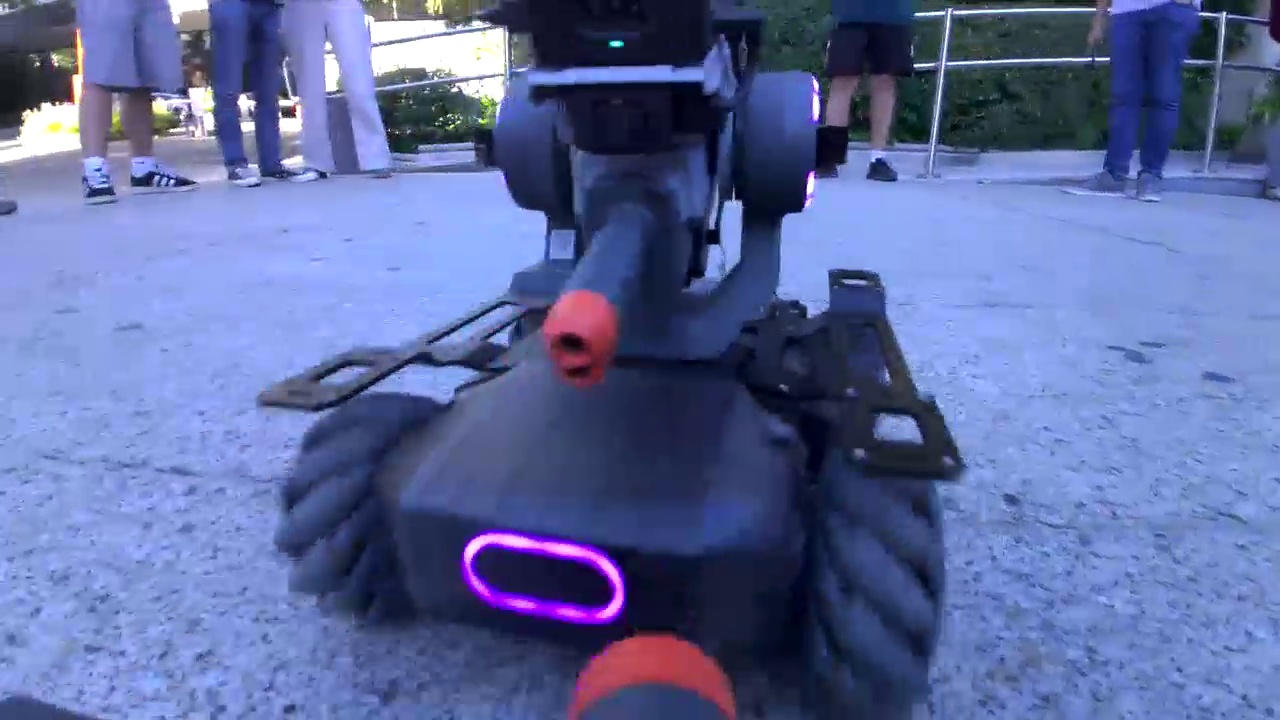robot: (251, 1, 968, 720)
